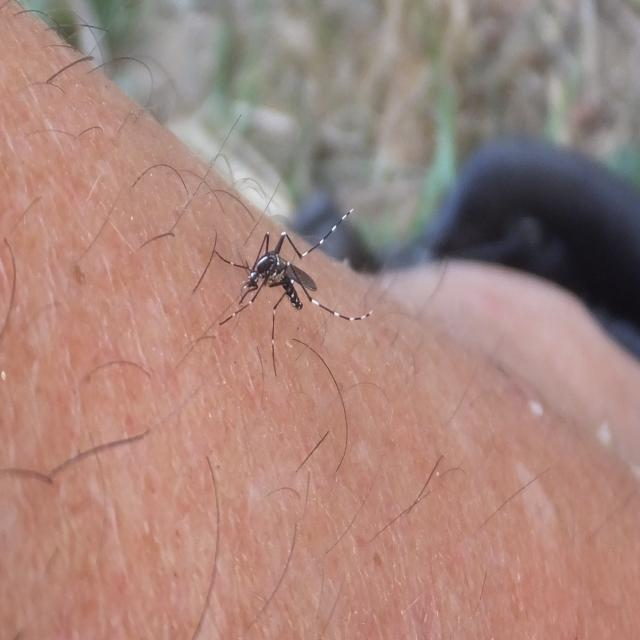albopictus: (186, 178, 376, 414)
